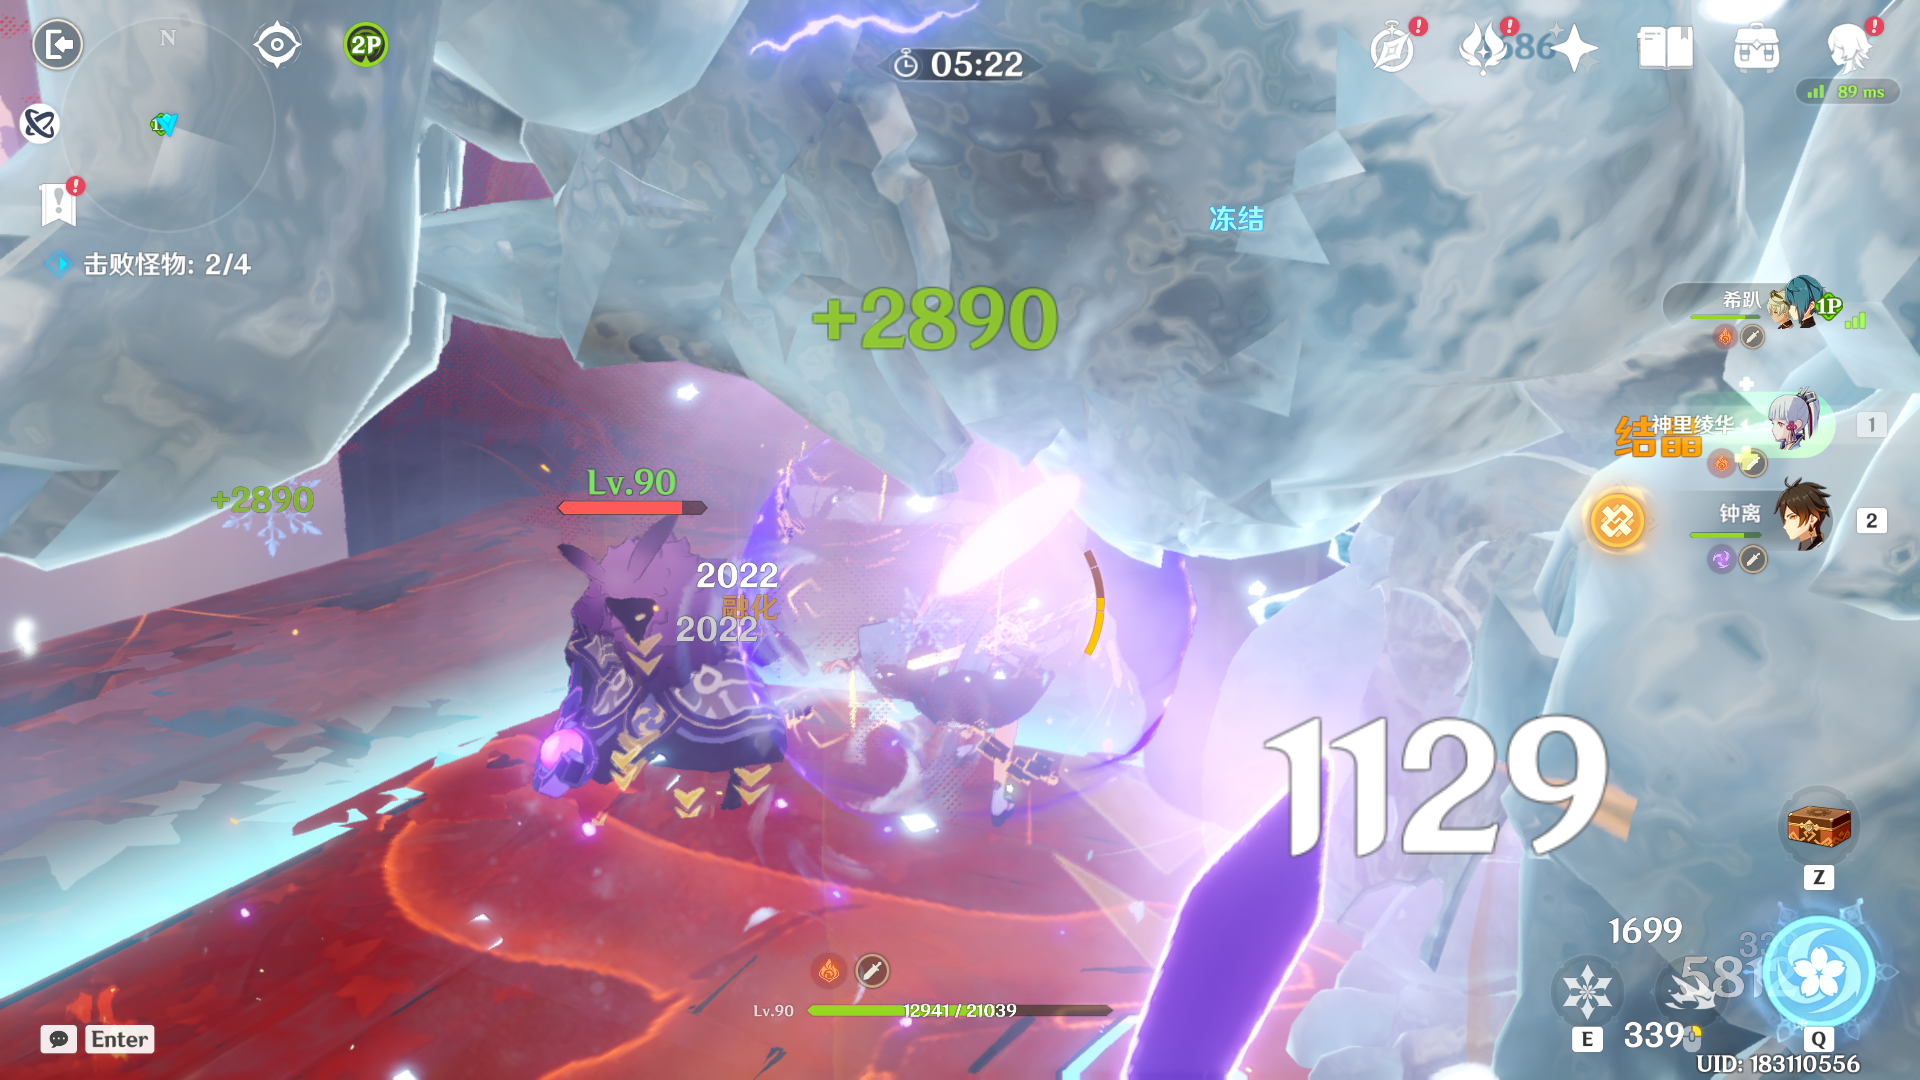caster: (480, 480, 829, 872)
